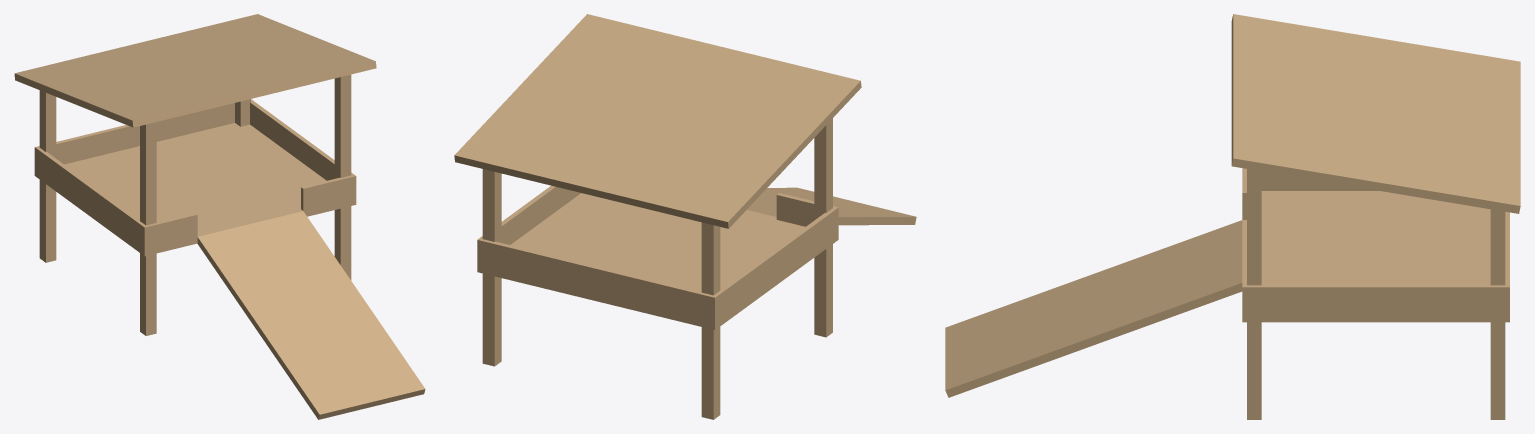
Rendered from dog_platform.fbx.
The picture shows the model from 3 angles, left to right: view 1: azimuth 30°, elevation 25°; view 2: azimuth 150°, elevation 25°; view 3: azimuth 270°, elevation 25°; orthographic projection. The views are drawn at different scales.
Parts seen in each view (by area): view 1: DogPlatform_Ramp, DogPlatform_Roof, DogPlatform_Deck, DogPlatform_Rail_Back, DogPlatform_Post_FL, DogPlatform_Rail_Left, DogPlatform_Post_FR, DogPlatform_Post_BL, DogPlatform_Rail_Right, DogPlatform_Rail_FrontRight, DogPlatform_Rail_FrontLeft; view 2: DogPlatform_Roof, DogPlatform_Deck, DogPlatform_Rail_Back, DogPlatform_Rail_Left, DogPlatform_Post_FL, DogPlatform_Post_BR, DogPlatform_Post_BL, DogPlatform_Ramp, DogPlatform_Rail_Right, DogPlatform_Rail_FrontLeft; view 3: DogPlatform_Roof, DogPlatform_Deck, DogPlatform_Ramp, DogPlatform_Rail_Right, DogPlatform_Post_FR, DogPlatform_Post_BR, DogPlatform_Rail_Left.
Boxes of the visible parts, box(x1,y1,x2,y2) form: DogPlatform_Ramp: box(197, 211, 425, 419); DogPlatform_Roof: box(14, 14, 376, 127); DogPlatform_Deck: box(34, 123, 356, 256); DogPlatform_Rail_Back: box(39, 103, 234, 164); DogPlatform_Post_FL: box(140, 122, 156, 335); DogPlatform_Rail_Left: box(34, 146, 148, 249); DogPlatform_Post_FR: box(334, 74, 351, 280); DogPlatform_Post_BL: box(39, 90, 56, 262); DogPlatform_Rail_Right: box(250, 99, 356, 198); DogPlatform_Rail_FrontRight: box(301, 176, 351, 210); DogPlatform_Rail_FrontLeft: box(147, 213, 197, 248); DogPlatform_Roof: box(454, 14, 861, 228); DogPlatform_Deck: box(477, 193, 838, 329); DogPlatform_Rail_Back: box(482, 239, 711, 321); DogPlatform_Rail_Left: box(710, 206, 838, 322); DogPlatform_Post_FL: box(814, 118, 832, 337); DogPlatform_Post_BR: box(482, 169, 501, 366); DogPlatform_Post_BL: box(701, 222, 720, 419); DogPlatform_Ramp: box(747, 187, 916, 225); DogPlatform_Rail_Right: box(477, 185, 580, 265); DogPlatform_Rail_FrontLeft: box(776, 193, 833, 226); DogPlatform_Roof: box(1231, 14, 1520, 213); DogPlatform_Deck: box(1242, 191, 1509, 322); DogPlatform_Ramp: box(945, 220, 1242, 397); DogPlatform_Rail_Right: box(1242, 284, 1509, 313); DogPlatform_Post_FR: box(1247, 169, 1261, 419); DogPlatform_Post_BR: box(1490, 209, 1505, 419); DogPlatform_Rail_Left: box(1261, 171, 1378, 190).
Bounding box in the file's own units: 230 × 208 × 387.
